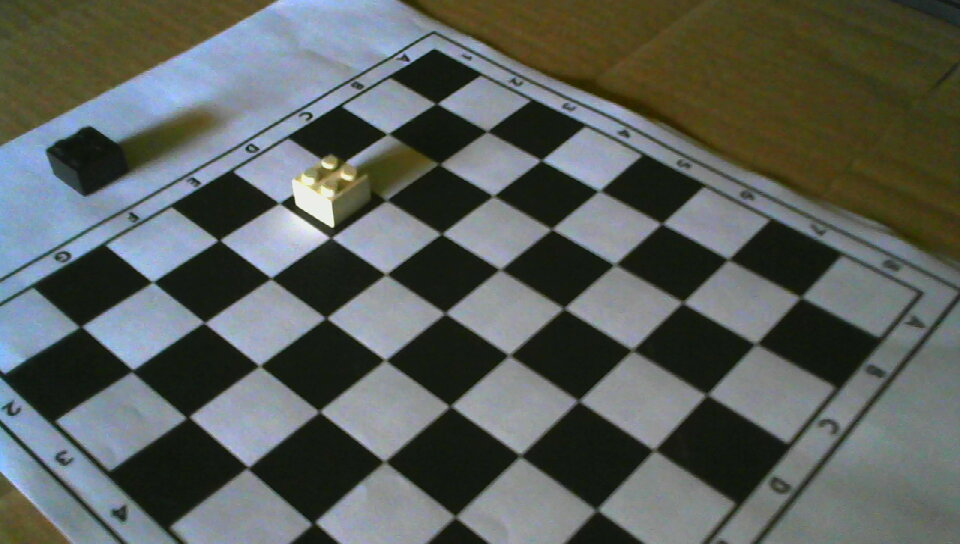bp: (46, 125, 126, 197)
wp: (292, 154, 373, 228)
